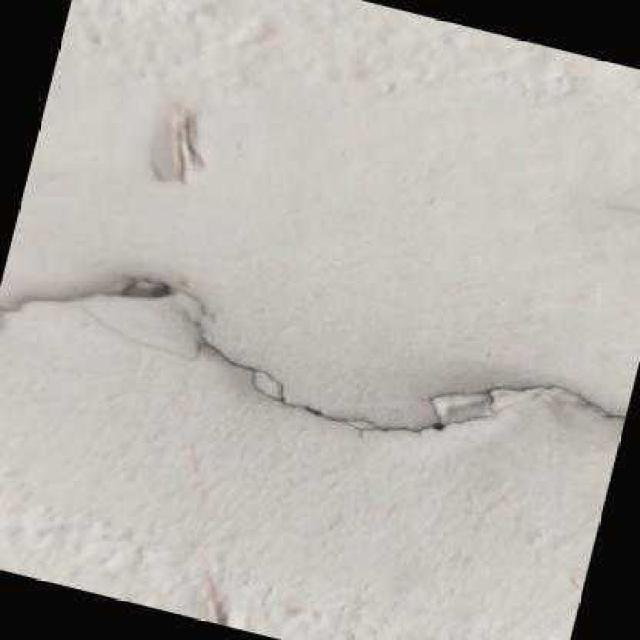D00: (0, 277, 626, 434)
